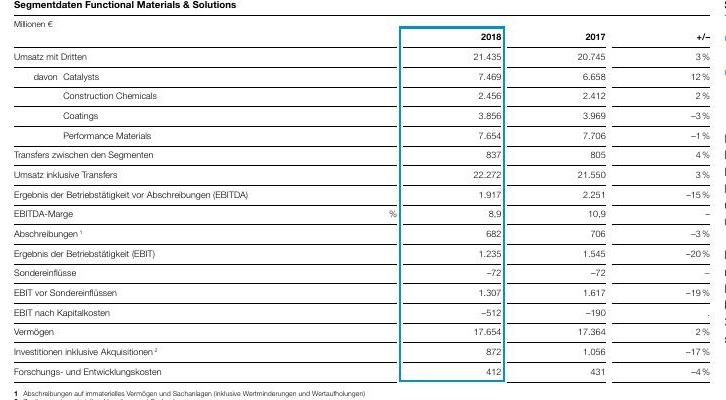table: (0, 0, 726, 400)
